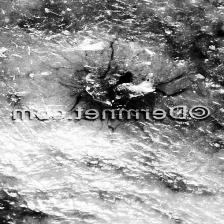Potentially Malignant Skin Tumors: (43, 40, 191, 130)
